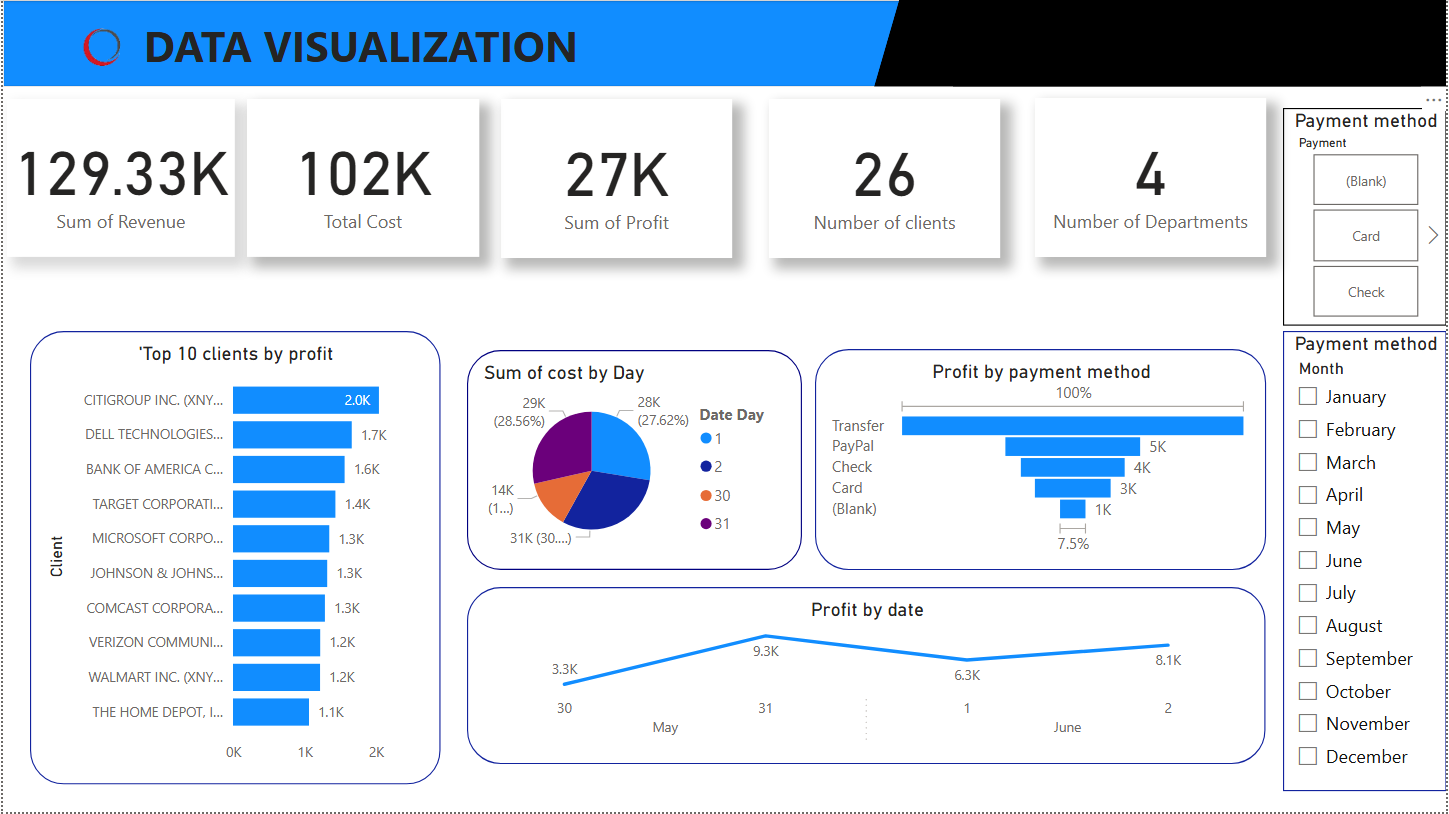

The dashboard page shown, as its layout file describes it:
{"tool":"powerbi","page":{"name":"Page 1","canvas":[1280,720],"ordinal":0},"visuals":[{"type":"shape","box":[260.7,4.4,438,77.1],"z":0},{"type":"shape","box":[0,0,118.8,77.1],"z":1000},{"type":"card","fields":{"Values":["Sum(Table 1 (Raw Data).Revenue)"]},"box":[3.5,87.8,202.2,140.1],"z":2000},{"type":"card","fields":{"Values":["Sum(Table 1 (Raw Data).Profit)"]},"box":[441.6,87.8,204.8,141],"z":3000},{"type":"card","fields":{"Values":["Table 1 (Raw Data).Number of clients"]},"box":[679.2,87.8,204.8,141],"z":4000},{"type":"barChart","title":"''Top 10 clients by profit","fields":{"Category":["Table 1 (Raw Data).Client"],"Y":["Sum(Table 1 (Raw Data).Profit)"]},"box":[23.9,293.5,363.5,401.7],"z":5000},{"type":"lineChart","title":"Profit by date","fields":{"Y":["Sum(Table 1 (Raw Data).Profit)"],"Category":["Table 1 (Raw Data).Date.Variation.Date Hierarchy.Month","Table 1 (Raw Data).Date.Variation.Date Hierarchy.Day"]},"box":[411.4,520.5,708.5,156.9],"z":6000},{"type":"funnel","title":"Profit by payment method","fields":{"Category":["Table 1 (Raw Data).Payment"],"Y":["Sum(Table 1 (Raw Data).Profit)"]},"box":[720,309.5,399.9,196],"z":7000},{"type":"slicer","title":"Payment method","fields":{"Values":["Table 1 (Raw Data).Payment"]},"box":[1135,95.8,145.4,193.3],"z":8000},{"type":"slicer","title":"Payment method","fields":{"Values":["Table 1 (Raw Data).Date.Variation.Date Hierarchy.Month"]},"box":[1135,293.5,145.4,407.9],"z":9000},{"type":"card","fields":{"Values":["Table 1 (Raw Data).Number of Departments"]},"box":[915.1,86.9,204.8,141],"z":10000},{"type":"card","fields":{"Values":["Table 1 (Raw Data).Total Cost"]},"box":[216.4,87.8,205.7,140.1],"z":11000},{"type":"shape","box":[0,0,1280.4,77.1],"z":12000},{"type":"shape","box":[772.3,0,508.1,77.1],"z":13000},{"type":"shape","box":[842.4,0,438,77.1],"z":14000},{"type":"textbox","box":[104.6,9.8,425.6,67.4],"z":15000},{"type":"pieChart","fields":{"Y":["Sum(Table 1 (Raw Data).cost)"],"Category":["Table 1 (Raw Data).Date.Variation.Date Hierarchy.Day"]},"box":[411.4,310.3,297,195.1],"z":16000},{"type":"image","box":[10.6,0,153.4,91.3],"z":17000}]}

Visuals, with their boxes in screenshot pixels (x1, y1, x2, y2), scaled from the page's 1280x720 canvas onto the 1449x814 screenshot:
shape: l=295, t=5, r=791, b=92
shape: l=0, t=0, r=134, b=87
card - Sum(Table 1 (Raw Data).Revenue): l=4, t=99, r=233, b=258
card - Sum(Table 1 (Raw Data).Profit): l=500, t=99, r=732, b=259
card - Table 1 (Raw Data).Number of clients: l=769, t=99, r=1001, b=259
"''Top 10 clients by profit" barChart: l=27, t=332, r=439, b=786
"Profit by date" lineChart: l=466, t=588, r=1268, b=766
"Profit by payment method" funnel: l=815, t=350, r=1268, b=571
"Payment method" slicer: l=1285, t=108, r=1448, b=327
"Payment method" slicer: l=1285, t=332, r=1448, b=793
card - Table 1 (Raw Data).Number of Departments: l=1036, t=98, r=1268, b=258
card - Table 1 (Raw Data).Total Cost: l=245, t=99, r=478, b=258
shape: l=0, t=0, r=1448, b=87
shape: l=874, t=0, r=1448, b=87
shape: l=954, t=0, r=1448, b=87
textbox: l=118, t=11, r=600, b=87
pieChart - Sum(Table 1 (Raw Data).cost) x Table 1 (Raw Data).Date.Variation.Date Hierarchy.Day: l=466, t=351, r=802, b=571
image: l=12, t=0, r=186, b=103
